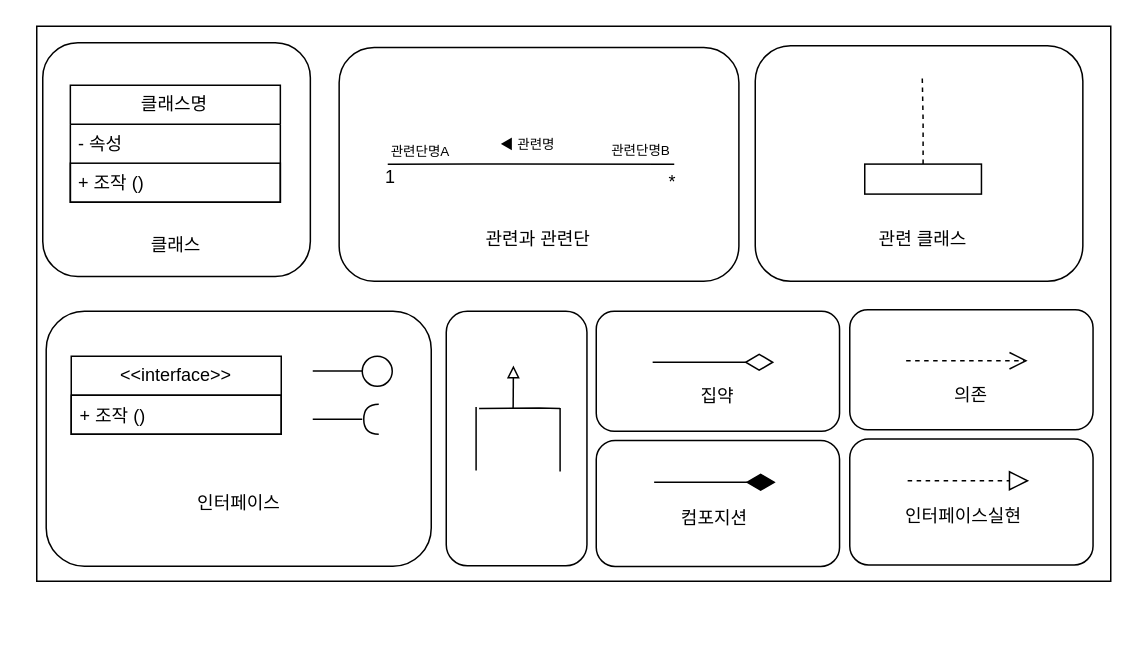
Image size: 1146x668. Some labels were removed from this diagram. Each missing label, with the centre of its shape:
"관련클래스" belongs at [922,178].
"범화" belongs at [516,438].
